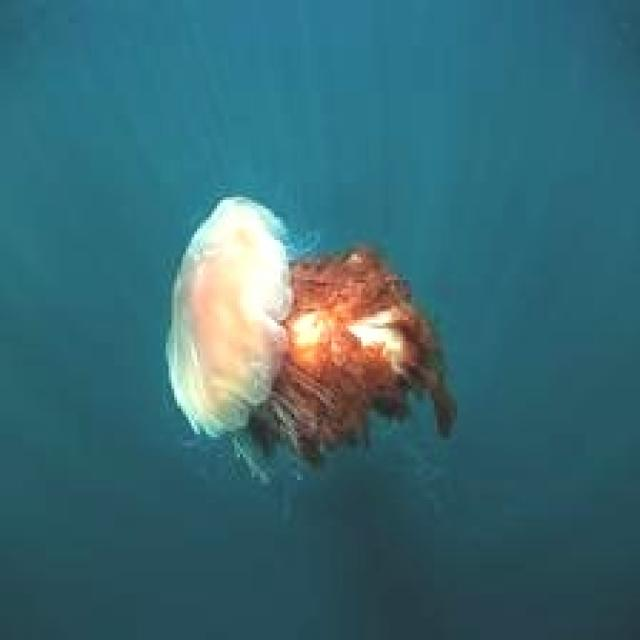Box-jellyfish: (163, 191, 457, 486)
